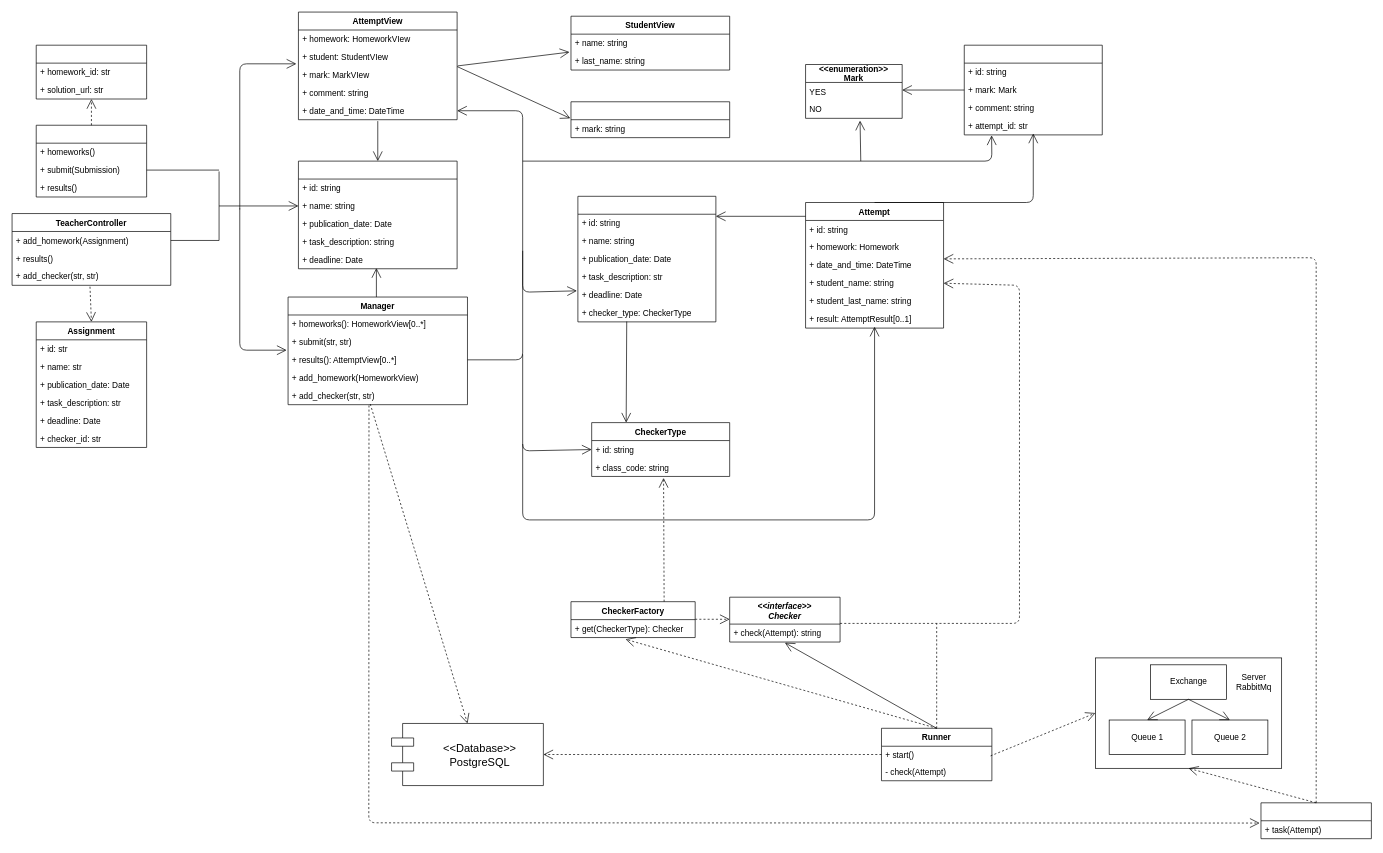
The diagram is 1383 pixels wide and 853 high, and some of its shapes have lost their labels. Each missing label, with the box of its shape:
AttemptResult: (964, 45, 1102, 135)
Balancer: (1260, 802, 1371, 839)
Homework: (577, 196, 716, 322)
HomeworkView: (298, 160, 457, 269)
MarkView: (570, 101, 730, 138)
StudentController: (36, 125, 147, 197)
Submission: (36, 45, 147, 99)
